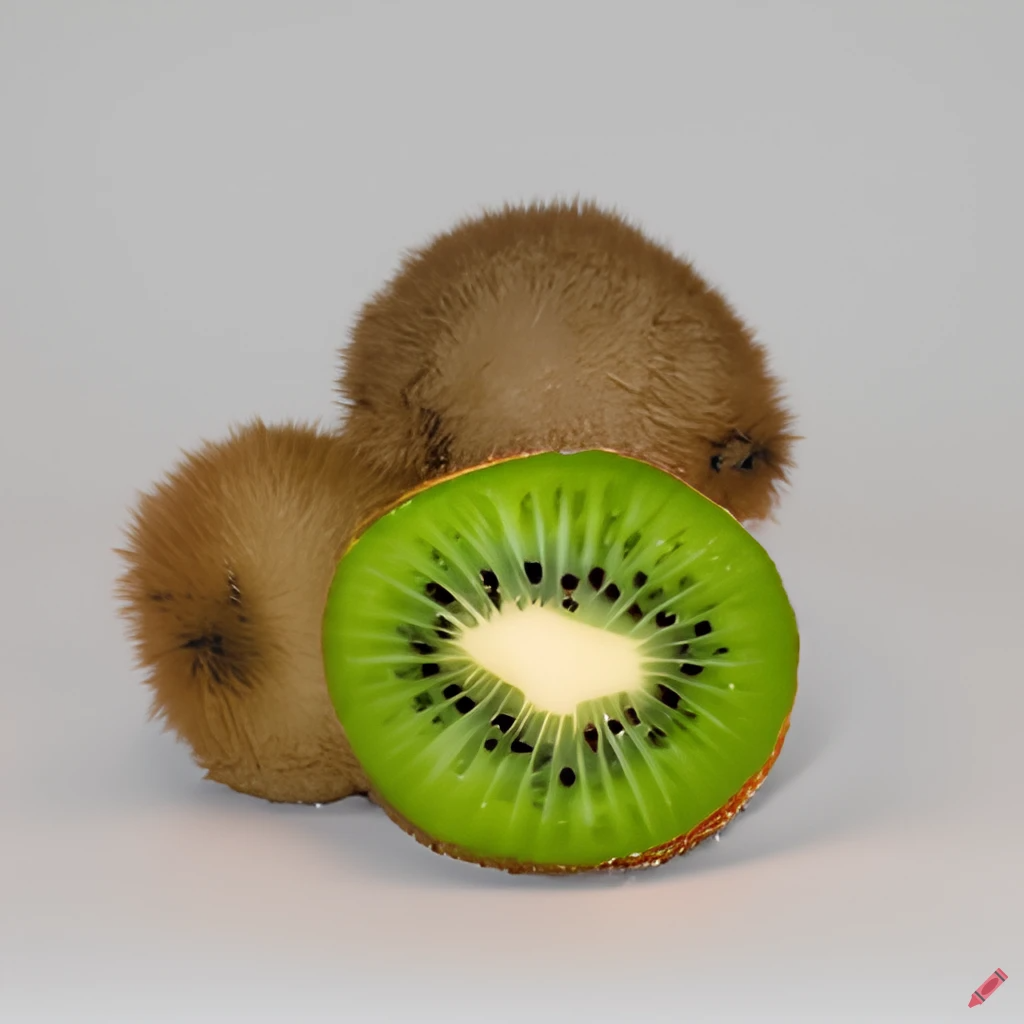Kiwi: (286, 423, 852, 914)
